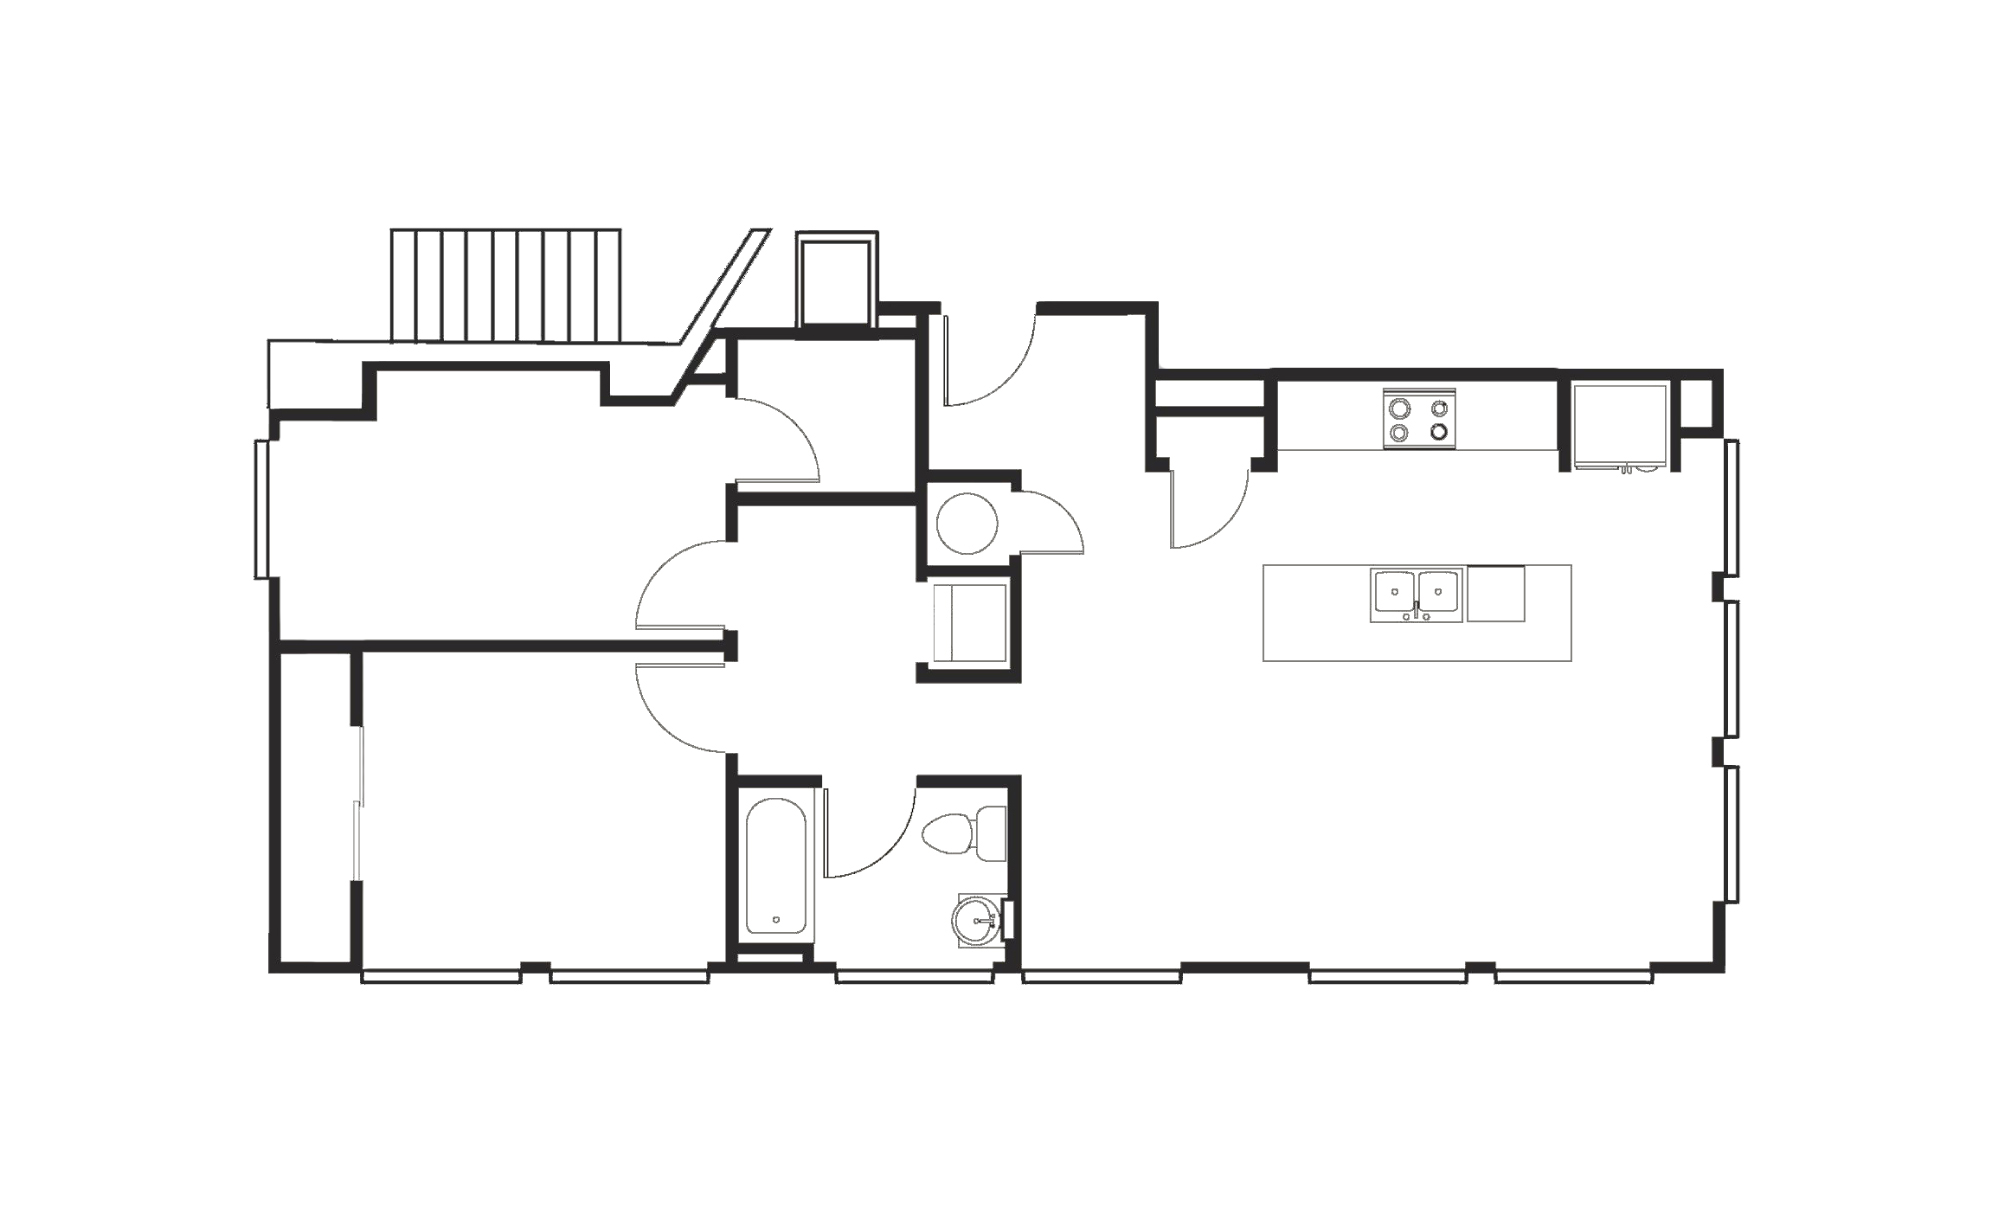door: (818, 784, 921, 896), (615, 528, 717, 637), (620, 654, 721, 760), (746, 384, 839, 486), (938, 329, 1040, 415), (1150, 482, 1254, 568), (939, 331, 1042, 417), (1024, 484, 1108, 570)
